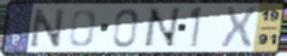0: (67, 8, 98, 49), (112, 7, 141, 50)
1: (188, 5, 205, 51)
N: (140, 6, 183, 50), (29, 7, 67, 50)
X: (219, 6, 259, 50)
